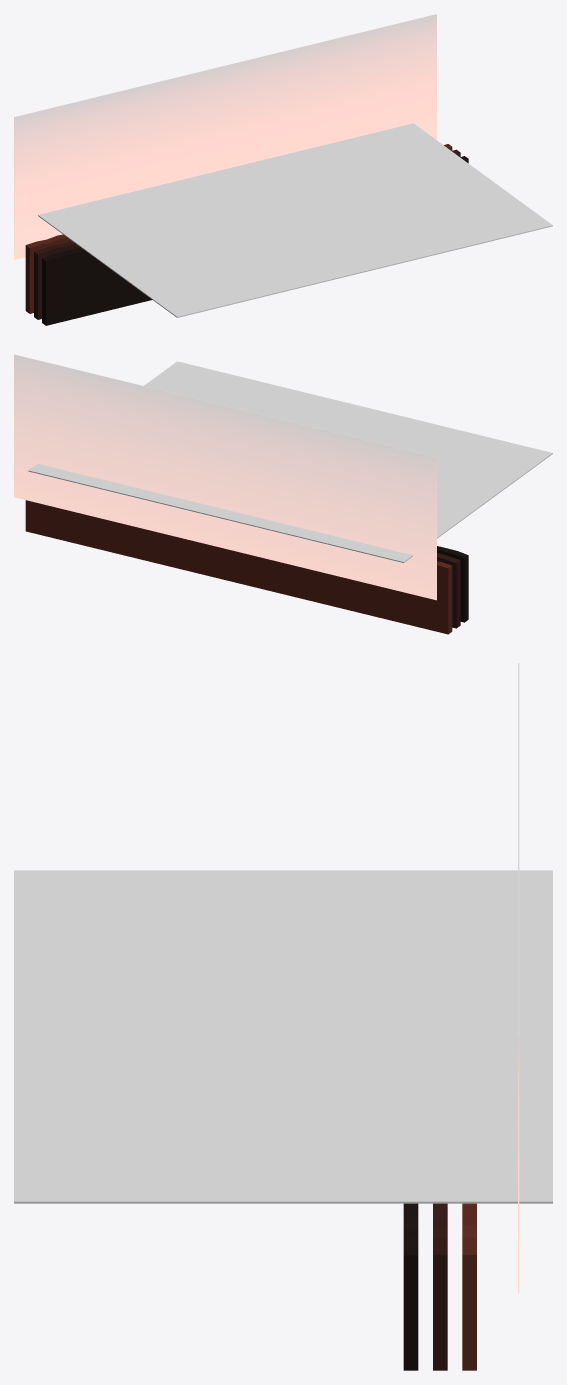
Rendered from emberfield.glb.
The picture shows the model from 3 angles, top to bottom: view 1: azimuth 30°, elevation 25°; view 2: azimuth 150°, elevation 25°; view 3: azimuth 270°, elevation 25°; orthographic projection. The views are drawn at different scales.
Visible parts, largest first — view 1: Ground contact / transparent shadow receiver.005, Sky gradient / editable material.005, World / terrain and architecture.005; view 2: Sky gradient / editable material.005, Ground contact / transparent shadow receiver.005, World / terrain and architecture.005; view 3: Ground contact / transparent shadow receiver.005, World / terrain and architecture.005, Sky gradient / editable material.005.
Part boxes in pixels (<box>): Ground contact / transparent shadow receiver.005: <box>38,123,552,317</box>; Sky gradient / editable material.005: <box>14,14,436,259</box>; World / terrain and architecture.005: <box>25,144,468,325</box>; Sky gradient / editable material.005: <box>14,354,436,600</box>; Ground contact / transparent shadow receiver.005: <box>28,361,552,562</box>; World / terrain and architecture.005: <box>25,500,468,634</box>; Ground contact / transparent shadow receiver.005: <box>14,870,552,1203</box>; World / terrain and architecture.005: <box>403,1203,476,1370</box>; Sky gradient / editable material.005: <box>518,663,519,1293</box>.
Size of the model in its own units: 180 by 75.4 by 110.
